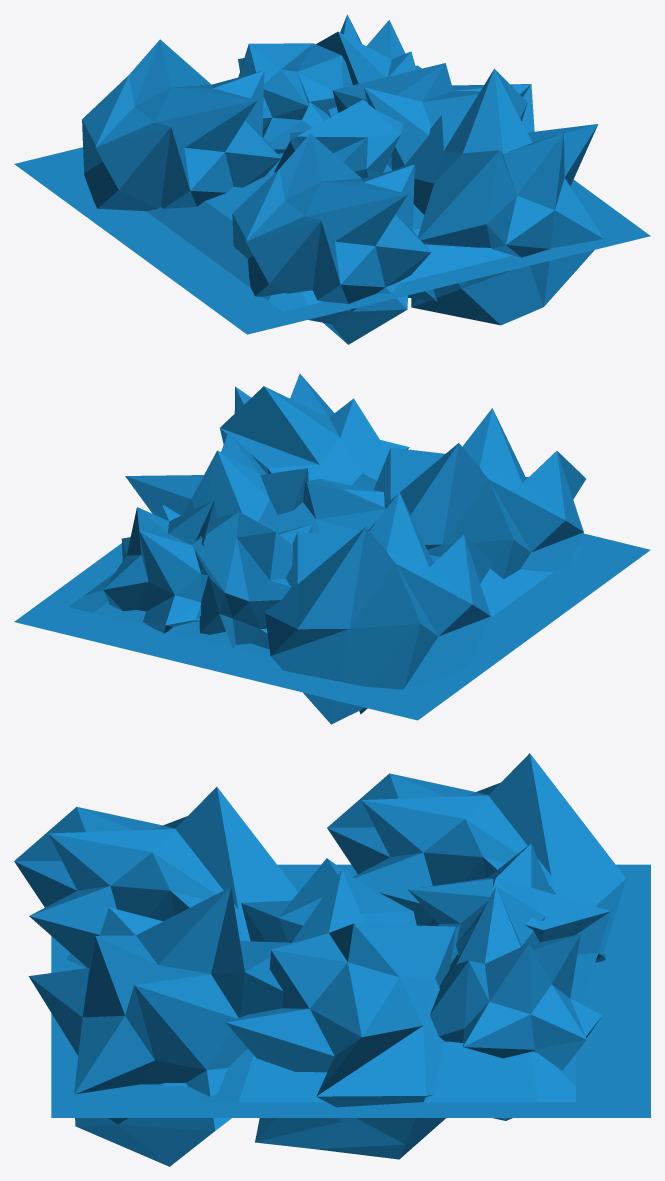
File: iceCrystal.fbx
The picture shows the model from 3 angles, top to bottom: view 1: azimuth 30°, elevation 25°; view 2: azimuth 150°, elevation 25°; view 3: azimuth 270°, elevation 25°; orthographic projection. The views are drawn at different scales.
Parts seen in each view (by area): view 1: Plane; view 2: Plane; view 3: Plane.
Boxes of the visible parts, bbox=[...] form: Plane: bbox=[14, 14, 650, 344]; Plane: bbox=[14, 373, 650, 724]; Plane: bbox=[14, 753, 650, 1166].
Size of the model in its own units: 1582 by 830 by 1675.
